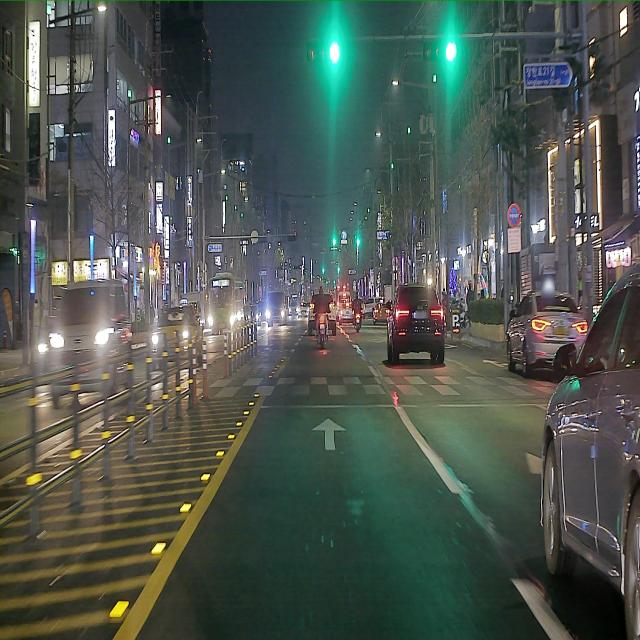Green Light: (328, 41, 342, 66), (445, 41, 457, 61)
